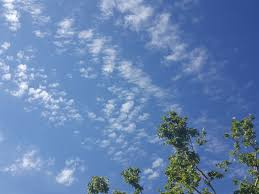sky: (1, 1, 256, 163)
tree: (156, 114, 220, 194), (195, 114, 259, 194), (86, 167, 143, 194)
